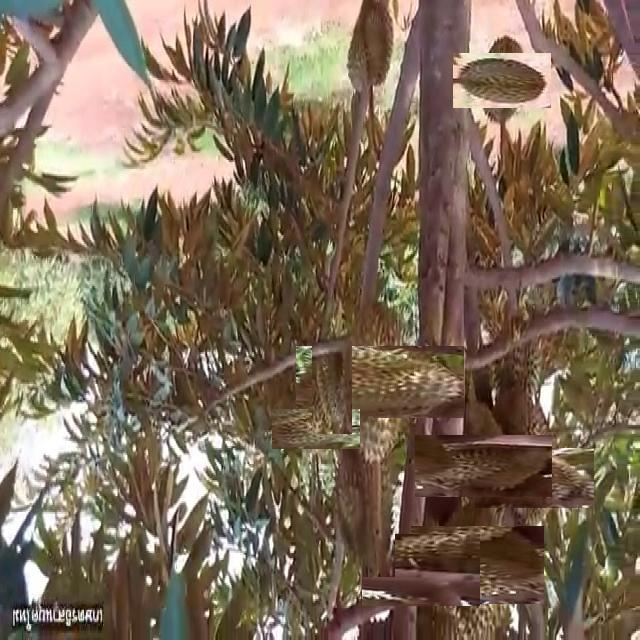durian: (319, 322, 440, 442), (425, 512, 531, 618), (434, 416, 534, 516), (373, 522, 468, 618), (330, 437, 395, 577), (490, 433, 579, 524), (464, 42, 541, 119), (343, 6, 395, 100), (283, 397, 348, 462), (312, 342, 352, 434)
